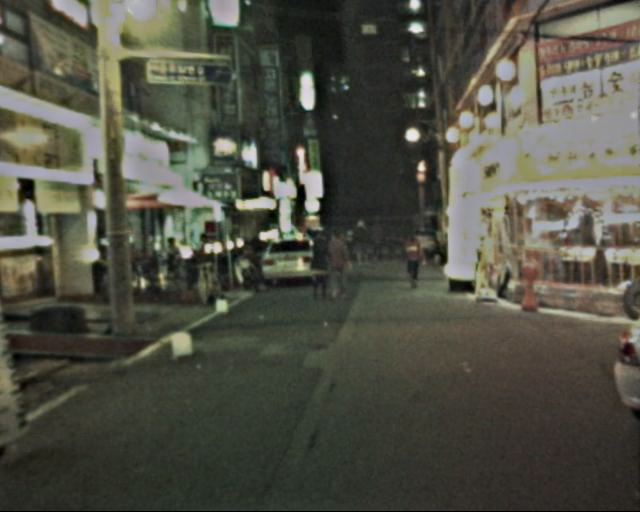person: (322, 224, 353, 303), (304, 225, 333, 303), (398, 226, 427, 293), (350, 216, 375, 271), (369, 226, 397, 261)
